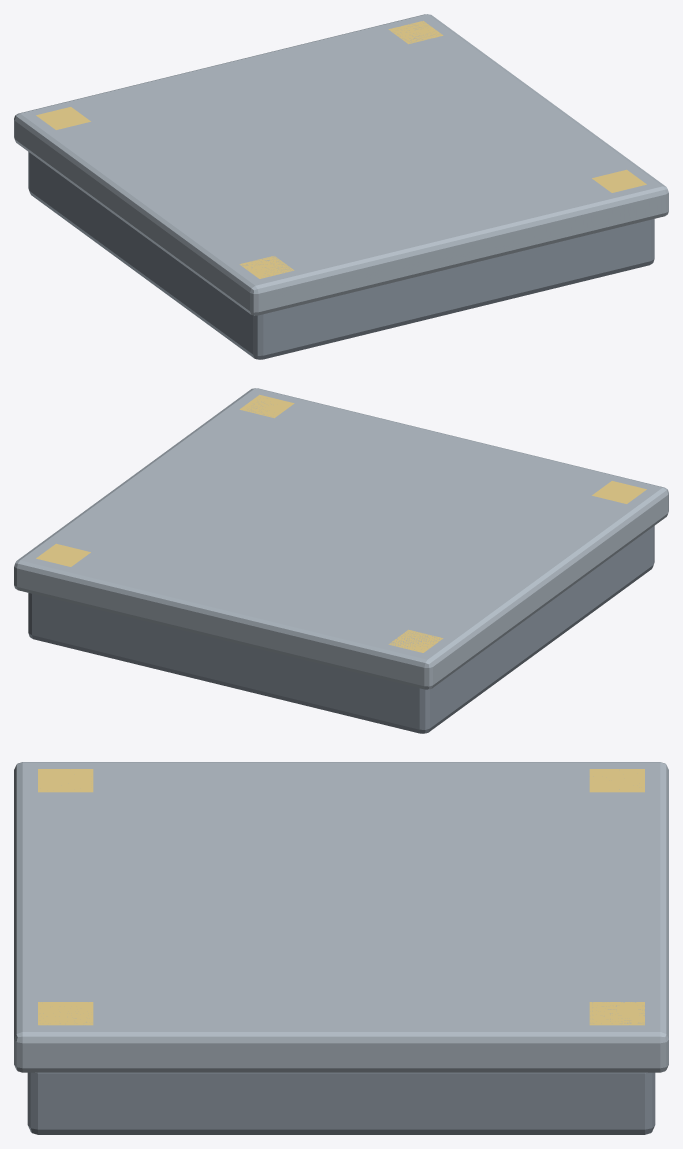
Rendered from moving_platform.glb.
The picture shows the model from 3 angles, top to bottom: view 1: azimuth 30°, elevation 25°; view 2: azimuth 150°, elevation 25°; view 3: azimuth 270°, elevation 25°; orthographic projection. The views are drawn at different scales.
Visible parts, largest first — view 1: PlatTop, PlatCore, PlatLug_-0.8_0.8, PlatLug_-0.8_-0.8, PlatLug_0.8_0.8, PlatLug_0.8_-0.8; view 2: PlatTop, PlatCore, PlatLug_0.8_-0.8, PlatLug_-0.8_-0.8, PlatLug_-0.8_0.8, PlatLug_0.8_0.8; view 3: PlatTop, PlatCore, PlatLug_0.8_0.8, PlatLug_0.8_-0.8, PlatLug_-0.8_0.8, PlatLug_-0.8_-0.8.
Boxes of the visible parts, <box> form: PlatTop: <box>14,14,668,315</box>; PlatCore: <box>28,152,654,359</box>; PlatLug_-0.8_0.8: <box>36,107,90,129</box>; PlatLug_-0.8_-0.8: <box>239,256,294,278</box>; PlatLug_0.8_0.8: <box>388,21,443,44</box>; PlatLug_0.8_-0.8: <box>592,169,646,192</box>; PlatTop: <box>14,388,668,689</box>; PlatCore: <box>28,526,654,733</box>; PlatLug_0.8_-0.8: <box>239,394,294,418</box>; PlatLug_-0.8_-0.8: <box>592,481,646,503</box>; PlatLug_-0.8_0.8: <box>388,629,443,652</box>; PlatLug_0.8_0.8: <box>36,543,90,566</box>; PlatTop: <box>14,762,668,1072</box>; PlatCore: <box>27,1072,655,1134</box>; PlatLug_0.8_0.8: <box>589,1002,644,1025</box>; PlatLug_0.8_-0.8: <box>38,1002,93,1025</box>; PlatLug_-0.8_0.8: <box>589,769,644,792</box>; PlatLug_-0.8_-0.8: <box>38,769,93,792</box>.
Size of the model in its own units: 1.9 by 0.35 by 1.9.
